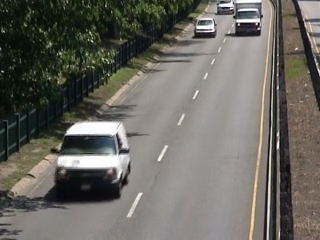car: (192, 17, 218, 40), (215, 1, 236, 15)
truck: (51, 119, 136, 199), (235, 1, 264, 37)
